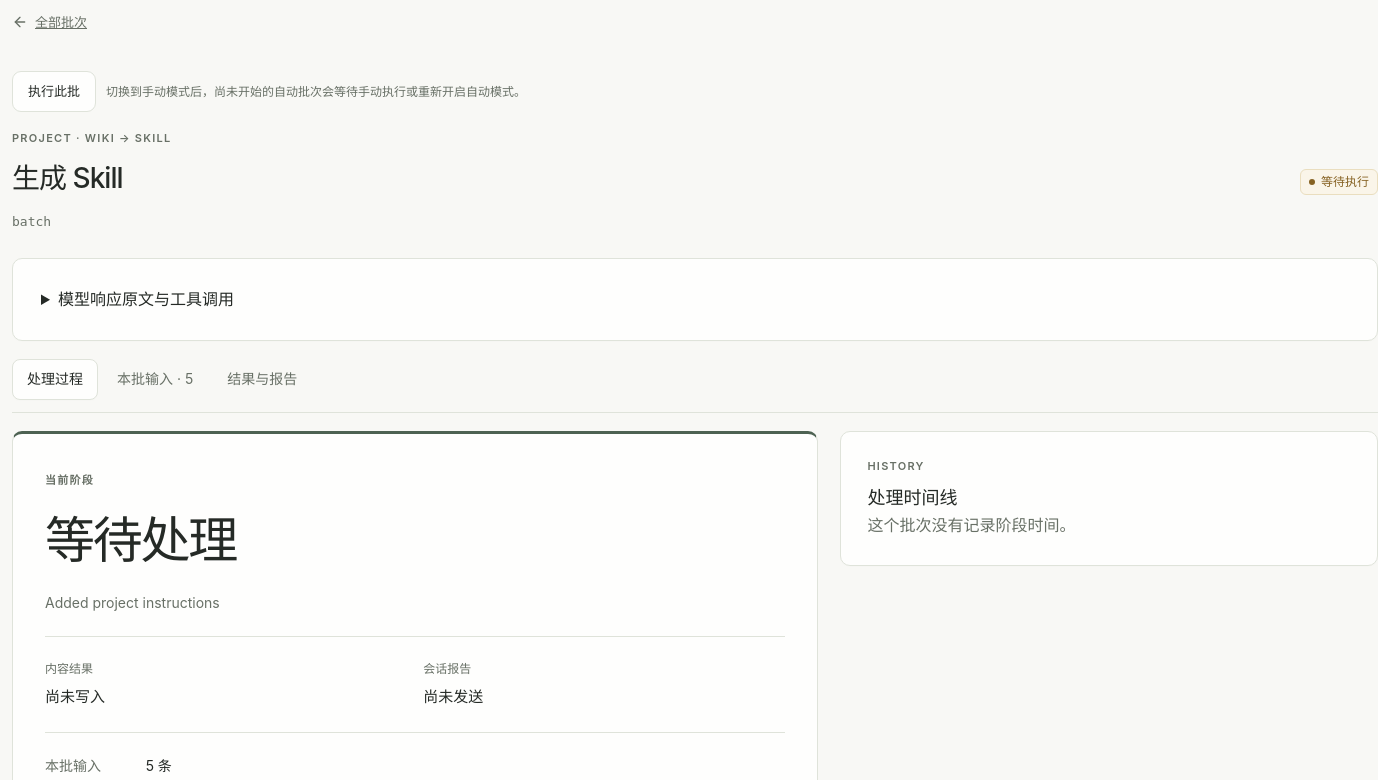
Scenario: labels the previous report separately while the current retry is pending
Check: the text "尚未发送" is shown, box [423,687,483,706]
What coordinates should you click on to do the following:
click the button "结果与报告"
I would click on:
 (262, 379)
Its box is [212,359,312,400].
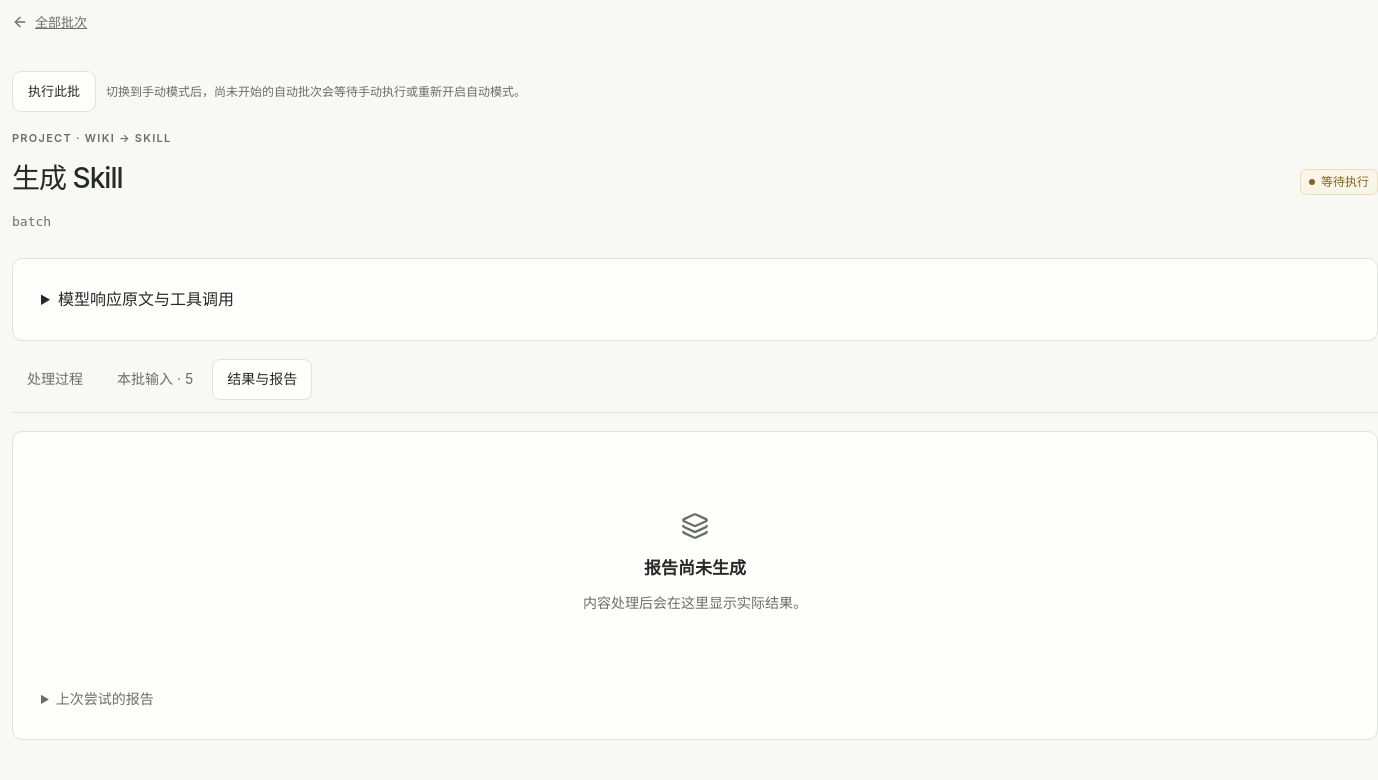
Check: the heading "报告尚未生成" is shown, box [644,555,746,582]
Check: the heading "上次尝试的报告" is shown, box [56,690,154,707]
